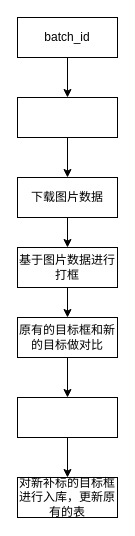
This 135x536 diagram has some shape labels left out. Here are the shapes that lost their labels. From the top down, the box of each, then its label:
(16, 96, 118, 138): sql查取数据库数据
(16, 396, 118, 438): 只增加新框，iou<0.2,补增新框
